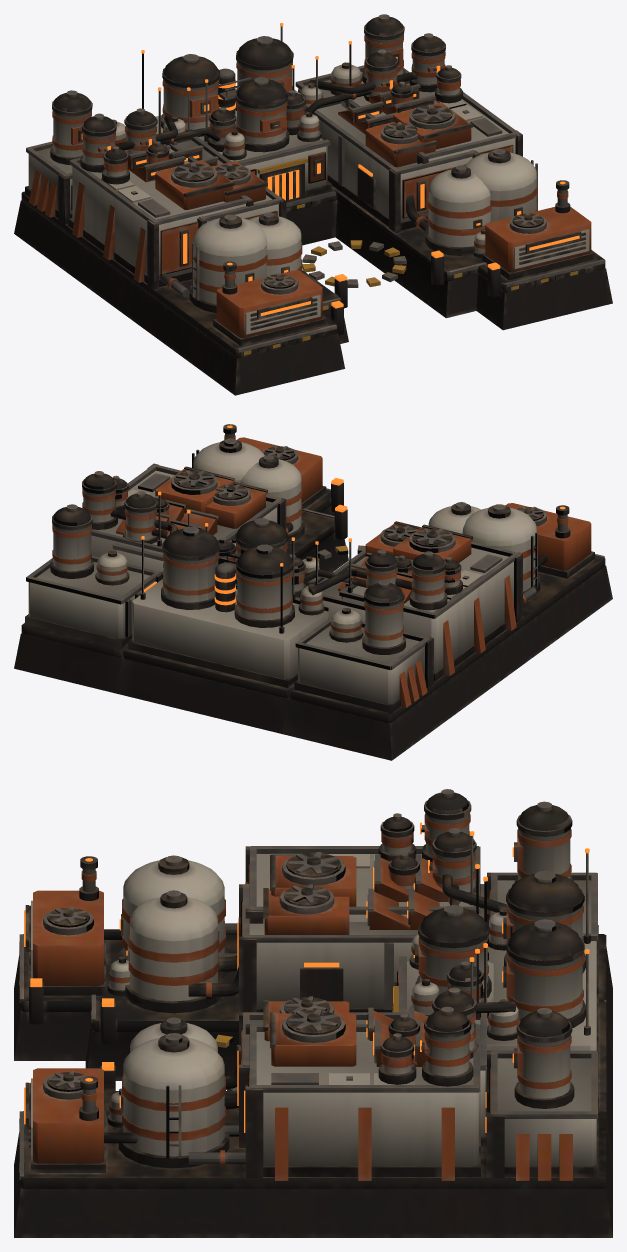
Rendered from facility-compounds-v2-remodel.glb.
The picture shows the model from 3 angles, top to bottom: view 1: azimuth 30°, elevation 25°; view 2: azimuth 150°, elevation 25°; view 3: azimuth 270°, elevation 25°; orthographic projection. The views are drawn at different scales.
Parts seen in each view (by area): view 1: facility_khepri_large, facility_khepri; view 2: facility_khepri_large, facility_khepri; view 3: facility_khepri_large, facility_khepri.
Boxes of the visible parts, x1,y1,x2,y2 form: facility_khepri_large: [14, 14, 612, 395]; facility_khepri: [124, 49, 491, 343]; facility_khepri_large: [14, 424, 612, 760]; facility_khepri: [112, 455, 480, 621]; facility_khepri_large: [14, 789, 612, 1237]; facility_khepri: [85, 828, 493, 1148].
Size of the model in its own units: 8.72 by 3.55 by 8.84.
Materials: 2 (1 with a texture image).
